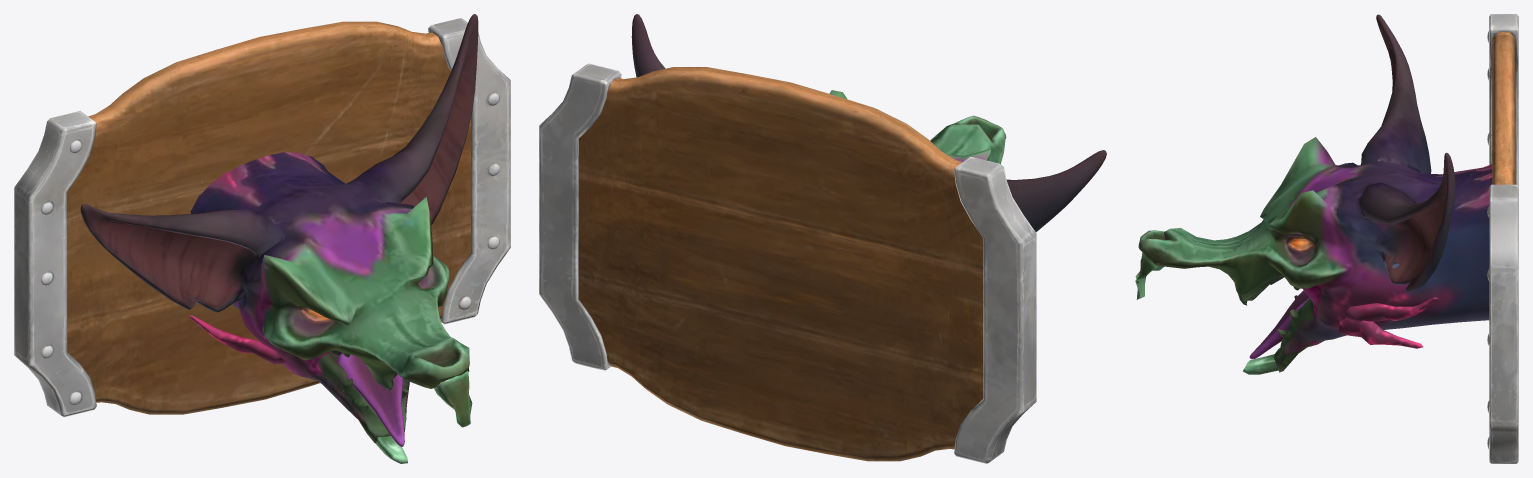
3 renders of one model, left to right at view 1: azimuth 30°, elevation 25°; view 2: azimuth 150°, elevation 25°; view 3: azimuth 270°, elevation 25°, orthographic. The views are drawn at different scales.
Visible parts, largest first — view 1: SM_Trophy_Plaque_RatWithered_LOD0; view 2: SM_Trophy_Plaque_RatWithered_LOD0; view 3: SM_Trophy_Plaque_RatWithered_LOD0.
Part boxes in pixels (x1,y1,x2,y2): SM_Trophy_Plaque_RatWithered_LOD0: [14, 14, 510, 463]; SM_Trophy_Plaque_RatWithered_LOD0: [539, 14, 1106, 463]; SM_Trophy_Plaque_RatWithered_LOD0: [1135, 14, 1518, 463].
Bounding box in the file's own units: 0.6629 × 0.4666 × 0.4879.
Materials: 2 (2 with a texture image).
